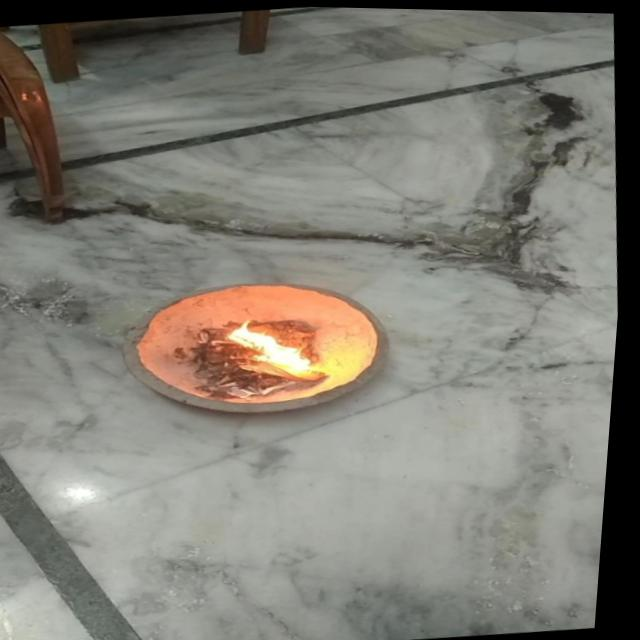fire: (226, 309, 337, 380)
